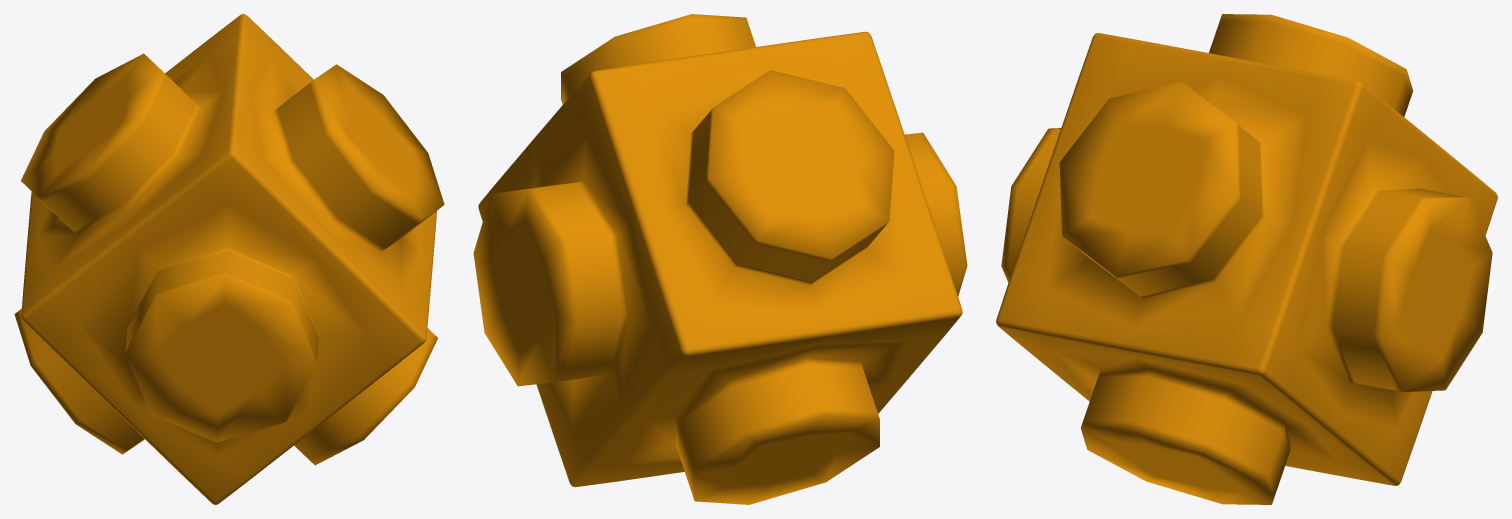
Rendered from Lego_cube.glb.
3 renders of one model, left to right at view 1: azimuth 30°, elevation 25°; view 2: azimuth 150°, elevation 25°; view 3: azimuth 270°, elevation 25°, orthographic. The views are drawn at different scales.
Visible parts, largest first — view 1: Lego_cube.001; view 2: Lego_cube.001; view 3: Lego_cube.001.
Part boxes in pixels (x1=…): Lego_cube.001: x1=14, y1=14, x2=444, y2=504; Lego_cube.001: x1=473, y1=14, x2=967, y2=504; Lego_cube.001: x1=996, y1=14, x2=1497, y2=504.
Bounding box in the file's own units: 3.01 × 2.62 × 2.78.
